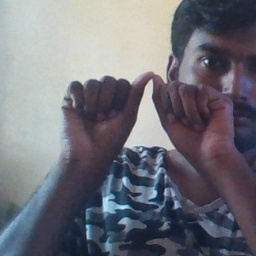A: (74, 71, 225, 160)
